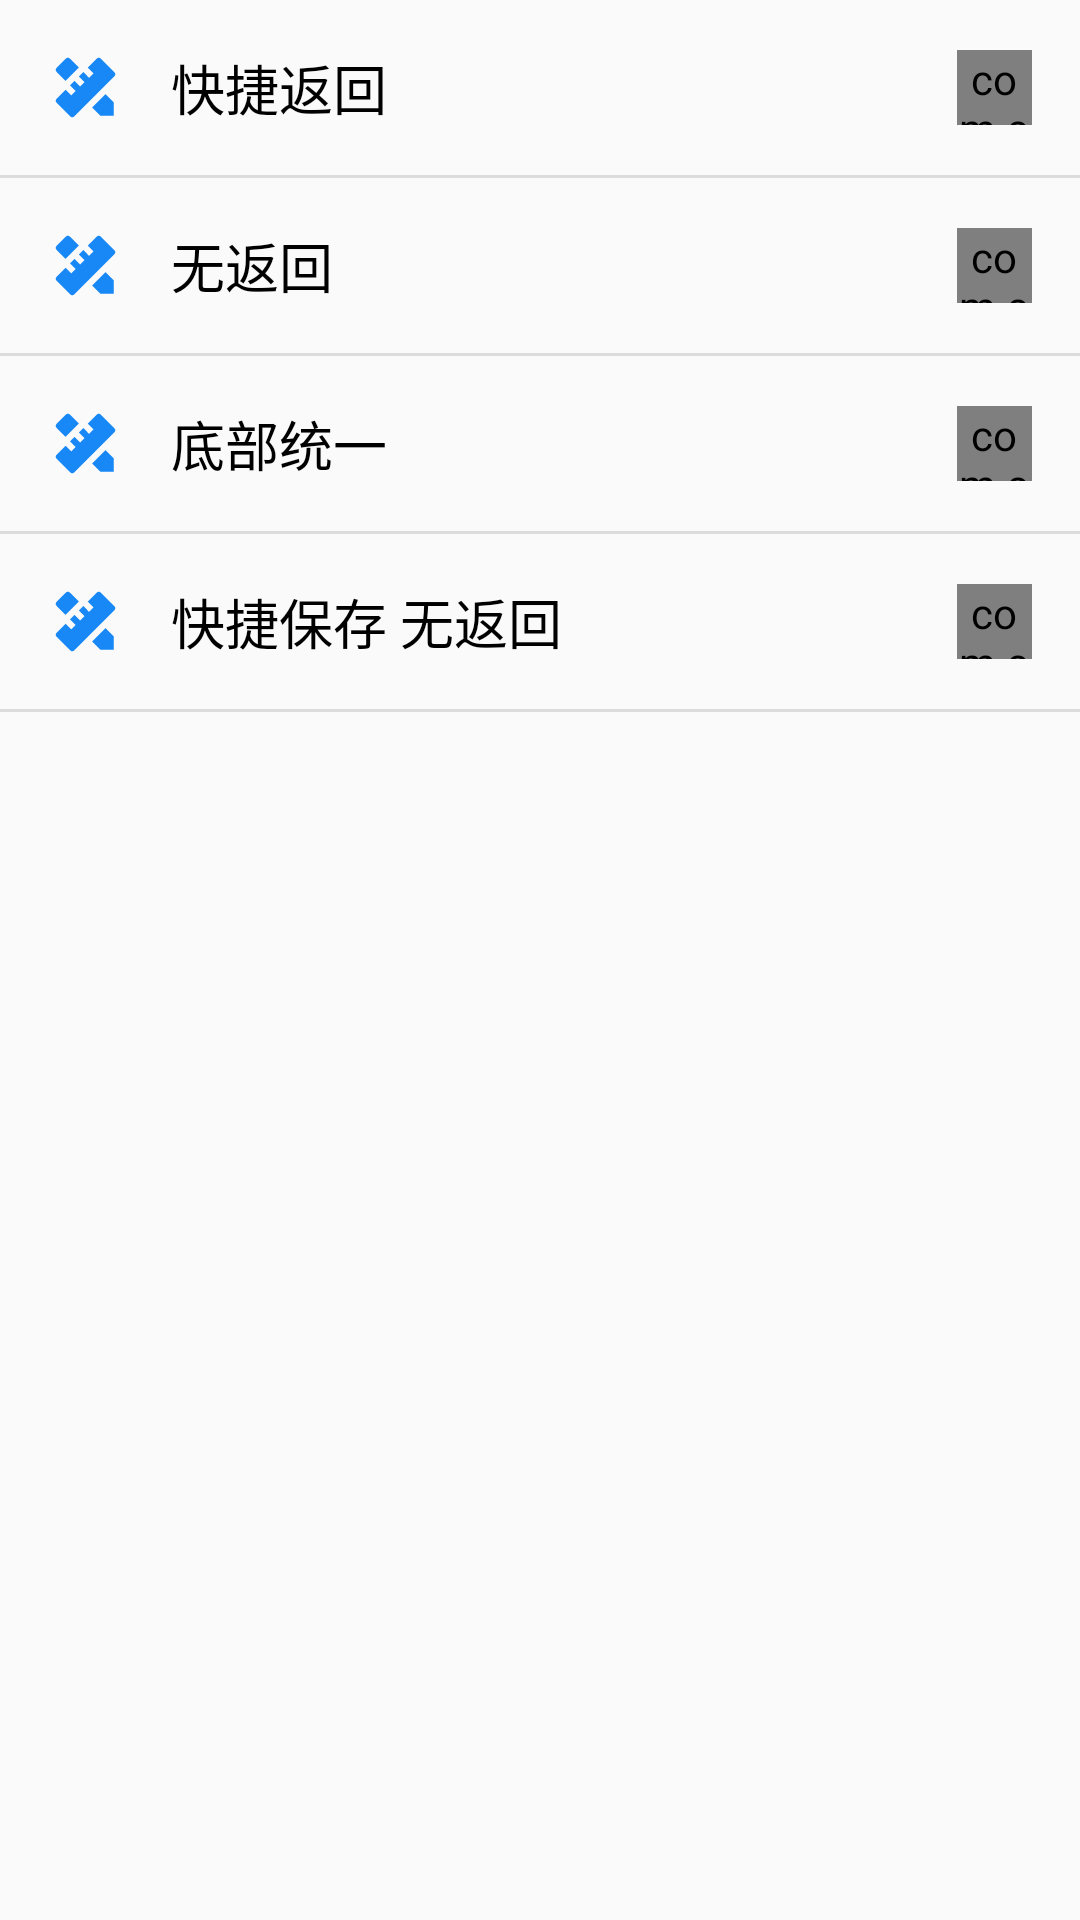

Locate icon controls on the screen. Image size 1080x1920, boxes as (x1=x1, y1=y1, x2=x2, y2=y2).
pencil ruler: (x1=55, y1=57, x2=116, y2=118), (x1=55, y1=235, x2=116, y2=296), (x1=55, y1=413, x2=116, y2=474), (x1=55, y1=591, x2=116, y2=652)
